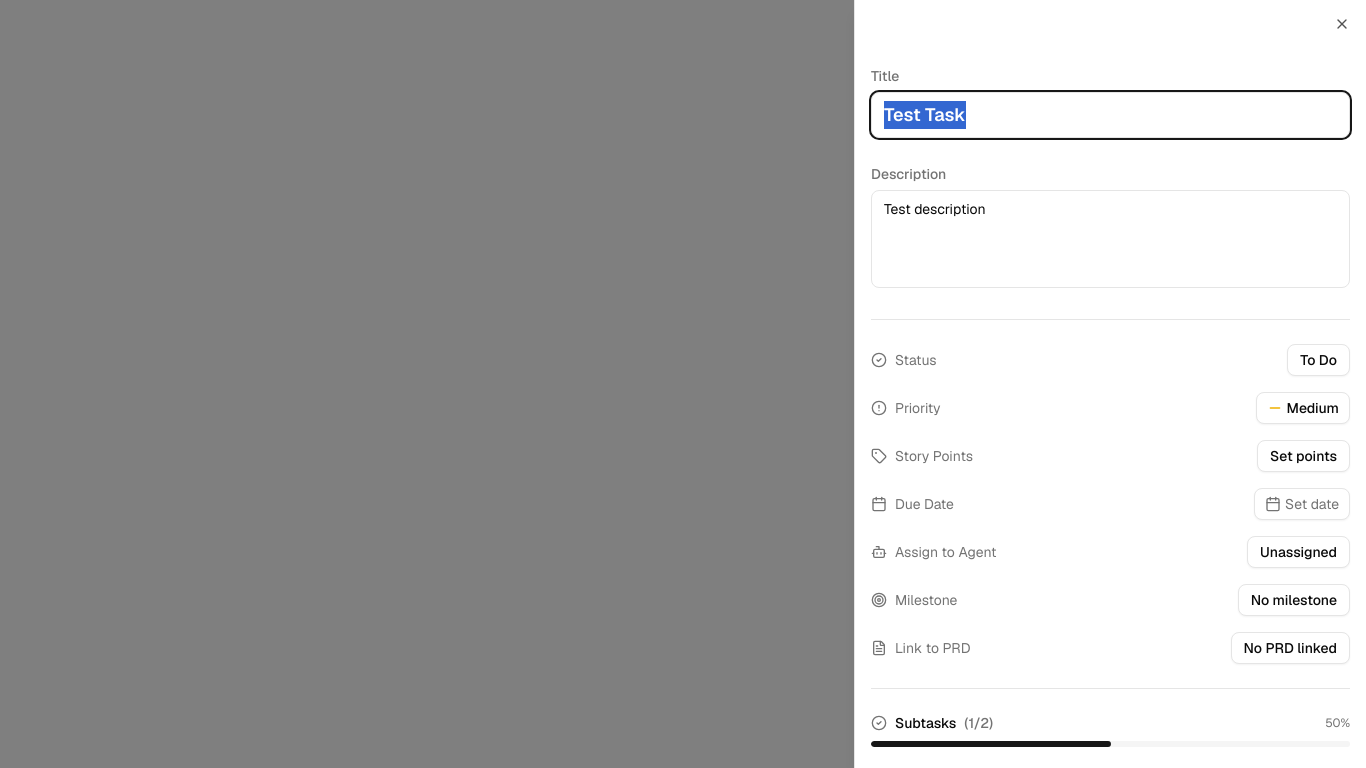
Test case: 2.5 Task Detail Panel › 2.5.6 Can assign to agent › Shows available agents in dropdown
This screenshot has width=1366, height=768.
What coordinates should you click on to do the following:
click the button with aria-label "Assign to"
I would click on:
 (1299, 552)
Its box is [1247,536,1350,568].
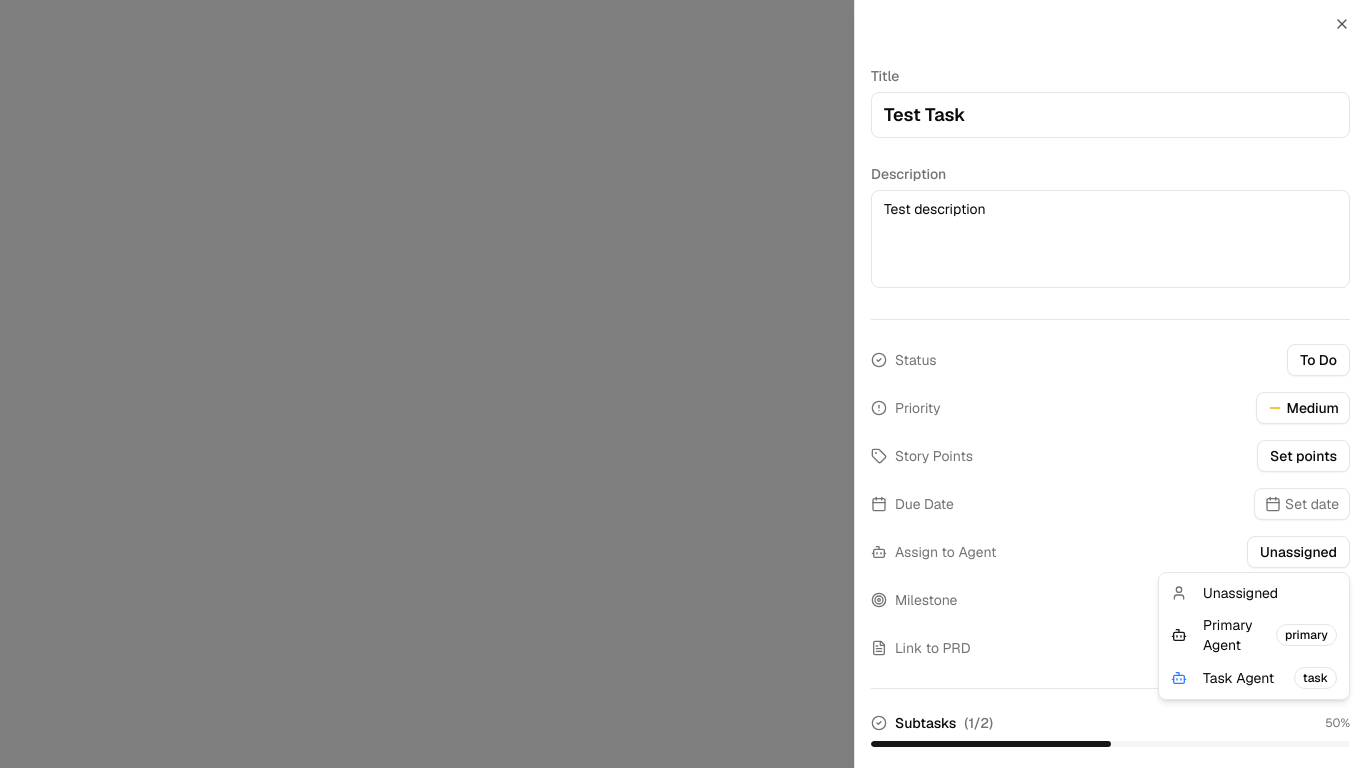
expect the text "Primary Agent" is shown: met, box [1203,615,1260,655]
expect the text "Task Agent" is shown: met, box [1203,668,1278,688]
